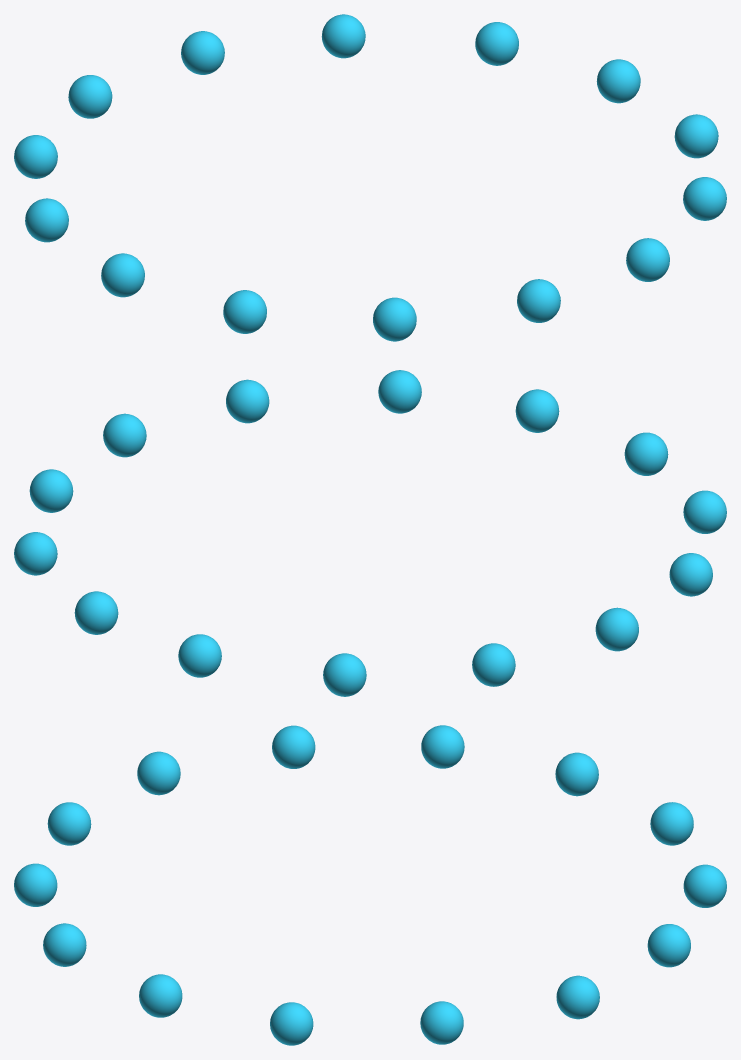
The picture shows the model from 3 angles, top to bottom: view 1: azimuth 30°, elevation 25°; view 2: azimuth 150°, elevation 25°; view 3: azimuth 270°, elevation 25°; orthographic projection.
Parts seen in each view (by area): view 1: Sphere048; view 2: Sphere048; view 3: Sphere048.
Boxes of the visible parts, x1,y1,x2,y2 form: Sphere048: (14,14,726,341); Sphere048: (14,370,726,696); Sphere048: (14,725,726,1045).
Size of the model in its own units: 132 by 8.22 by 134.
